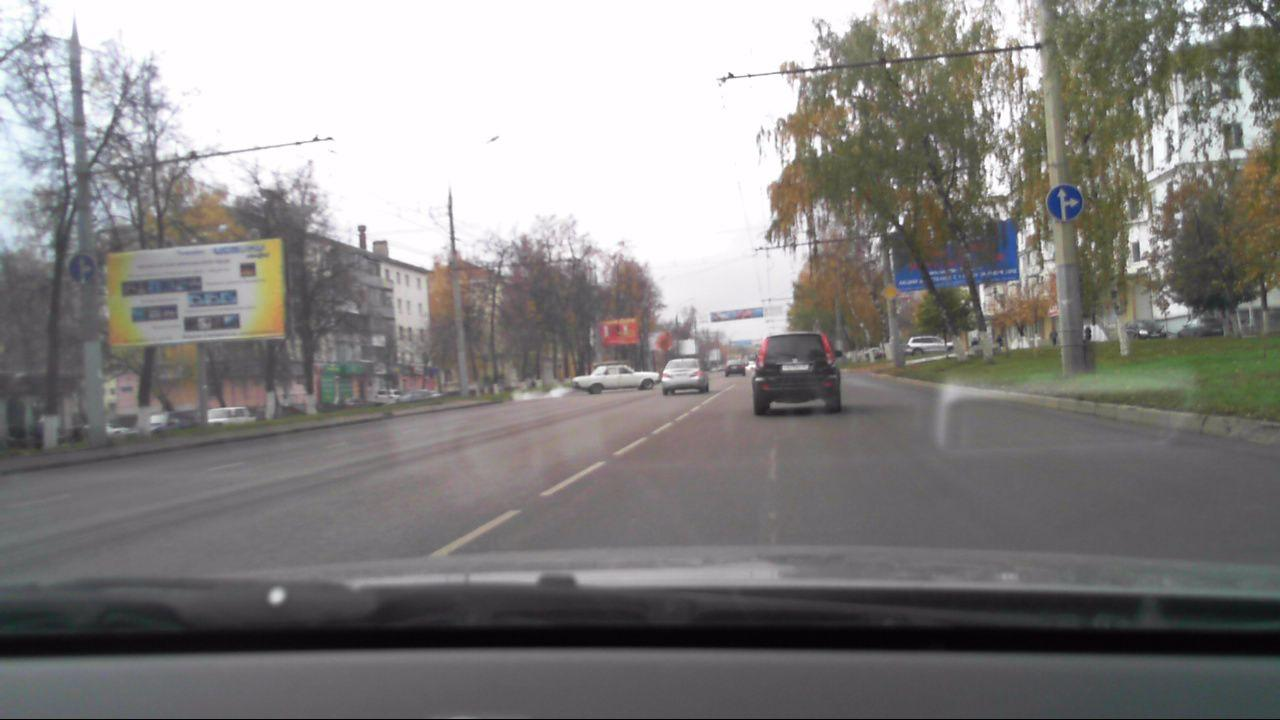4_1_4: (1041, 183, 1086, 225)
